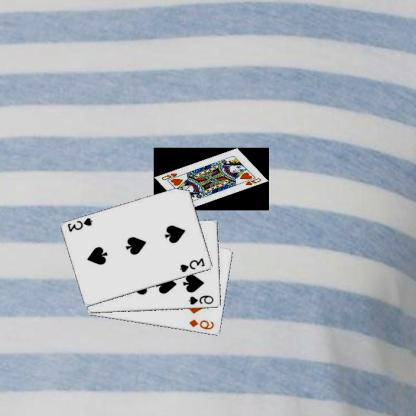3S: (179, 255, 208, 274), (66, 215, 96, 233)
6D: (188, 317, 217, 331)
9S: (188, 293, 217, 306)
